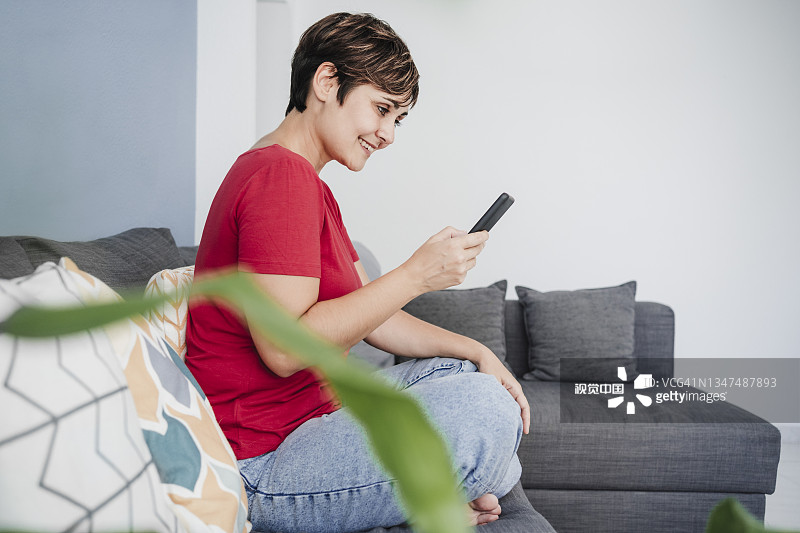reading: (392, 185, 534, 302)
